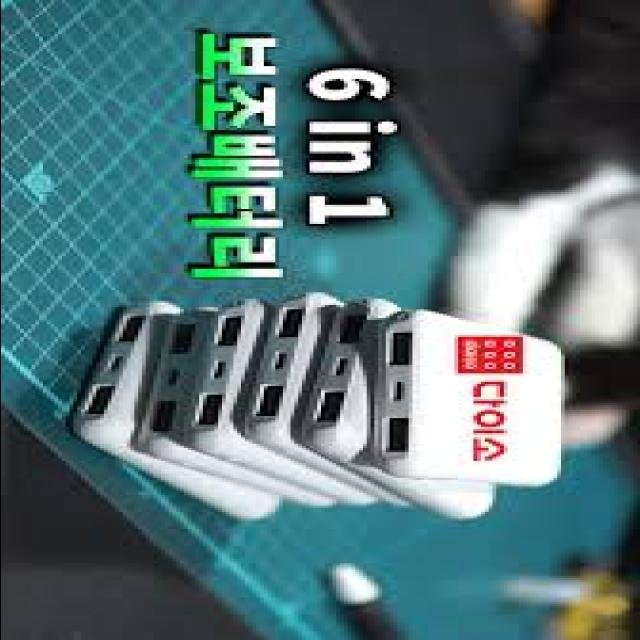portable-charger: (58, 306, 292, 521), (297, 298, 499, 520), (136, 318, 324, 502), (368, 310, 566, 484), (174, 306, 330, 512), (240, 294, 379, 512)
